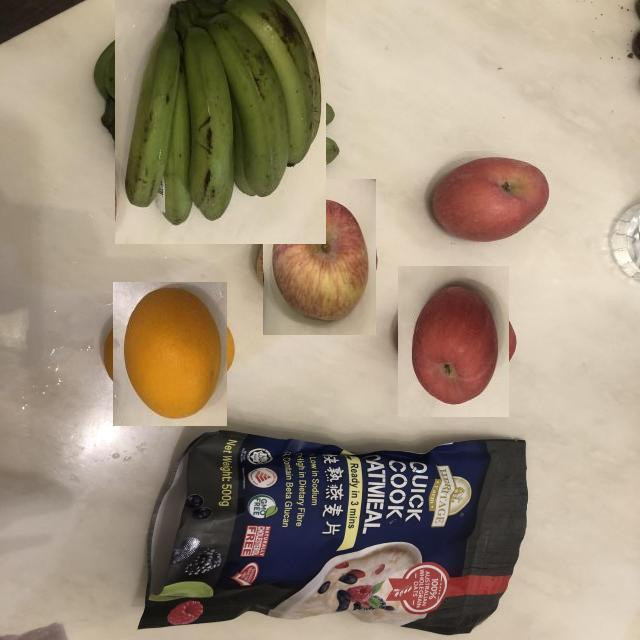Apple: (263, 178, 376, 335), (397, 267, 509, 417), (415, 152, 553, 253)
Banana: (114, 0, 326, 244)
Orange: (112, 283, 227, 426)
